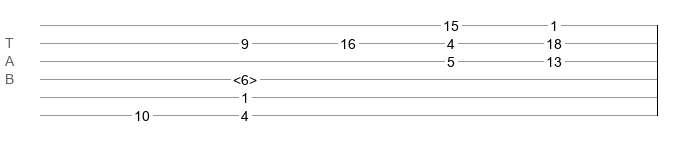1: (241, 90, 249, 100), (550, 18, 558, 28)
10: (134, 108, 150, 118)
13: (546, 54, 562, 64)
15: (443, 18, 459, 28)
16: (340, 36, 356, 46)
18: (546, 36, 562, 46)
4: (241, 108, 249, 118), (447, 36, 455, 46)
5: (447, 54, 455, 64)
9: (241, 36, 249, 46)
harmonic: (233, 72, 257, 82)
